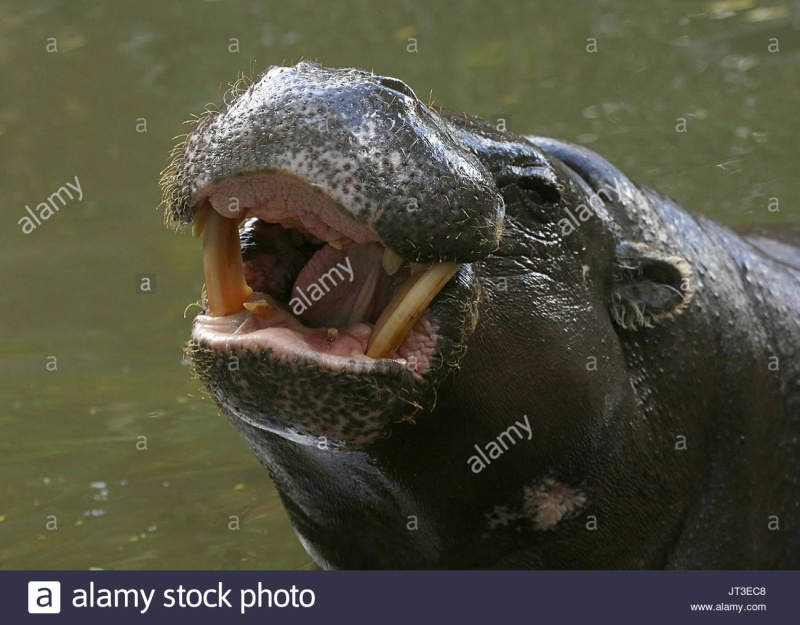hipopotamo: (163, 64, 800, 591)
